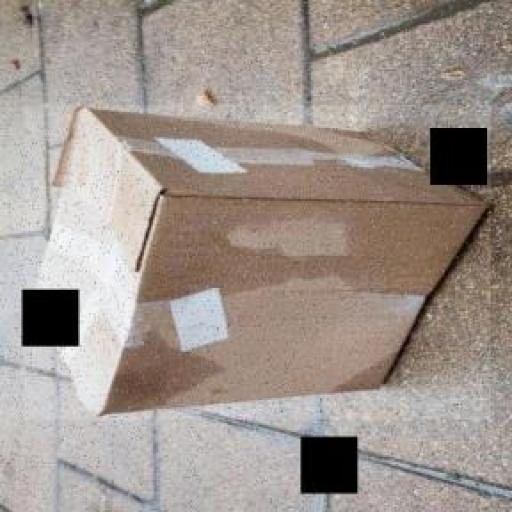box: (24, 106, 492, 420)
